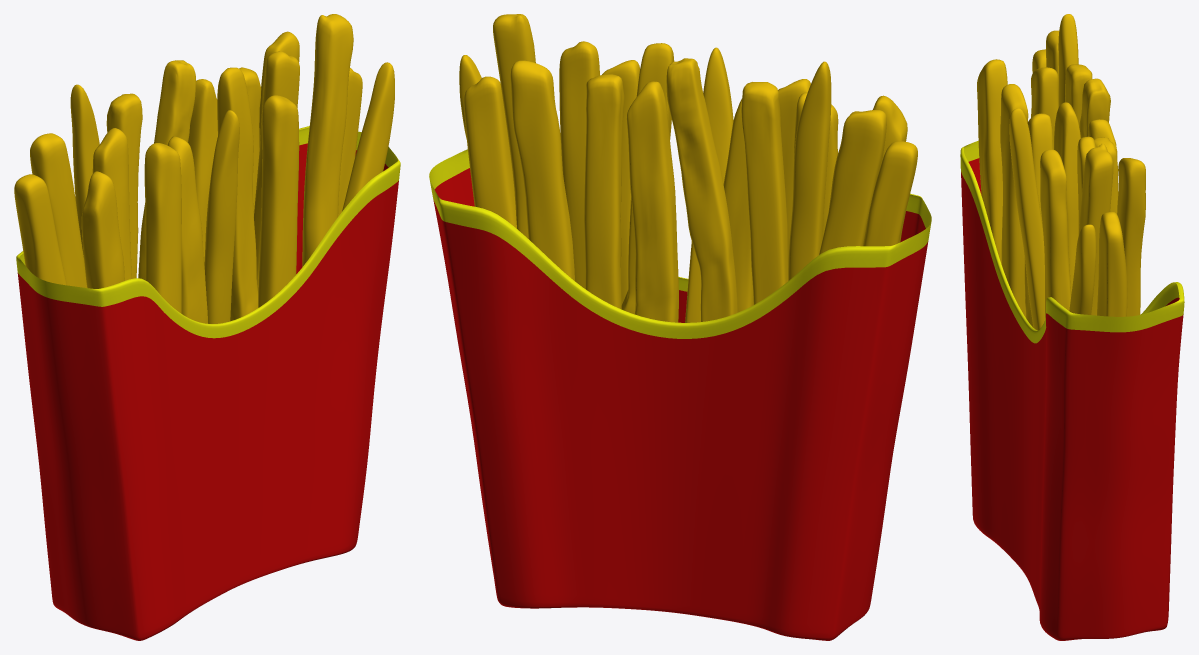
File: Packet.fbx
3 renders of one model, left to right at view 1: azimuth 30°, elevation 25°; view 2: azimuth 150°, elevation 25°; view 3: azimuth 270°, elevation 25°, orthographic. The views are drawn at different scales.
Visible parts, largest first — view 1: packet1, unit1 (×2), unit5 (×2), unit3 (×2), unit8, unit6 (×2), unit9, unit2 (×2), unit7, unit4 (×2), unit12, unit10 (+2 smaller); view 2: packet1, unit4 (×2), unit2 (×2), unit6 (×2), unit5 (×2), unit3 (×2), unit1 (×2), unit13, unit11, unit8, unit9, unit10 (+2 smaller); view 3: packet1, unit3 (×2), unit7, unit8, unit2 (×2), unit5 (×2), unit9, unit13, unit1, unit6 (×2), unit12, unit4 (×2) (+2 smaller).
Boxes of the visible parts, bbox=[...] form: packet1: bbox=[16, 126, 400, 640]; unit1 (×2): bbox=[14, 14, 353, 285]; unit5 (×2): bbox=[138, 60, 258, 321]; unit3 (×2): bbox=[70, 84, 239, 323]; unit8: bbox=[258, 95, 299, 307]; unit6 (×2): bbox=[167, 79, 217, 323]; unit9: bbox=[144, 143, 181, 313]; unit2 (×2): bbox=[30, 31, 299, 287]; unit7: bbox=[81, 171, 124, 288]; unit4 (×2): bbox=[106, 67, 261, 278]; unit12: bbox=[342, 62, 394, 211]; unit10: bbox=[92, 128, 131, 280]; packet1: bbox=[429, 149, 931, 640]; unit4 (×2): bbox=[584, 74, 788, 309]; unit2 (×2): bbox=[510, 60, 886, 280]; unit6 (×2): bbox=[626, 81, 753, 322]; unit5 (×2): bbox=[621, 43, 737, 321]; unit3 (×2): bbox=[685, 47, 831, 322]; unit1 (×2): bbox=[493, 14, 917, 246]; unit13: bbox=[464, 76, 516, 228]; unit11: bbox=[559, 41, 599, 288]; unit8: bbox=[602, 60, 639, 304]; unit9: bbox=[778, 79, 810, 268]; unit10: bbox=[794, 92, 838, 239]; packet1: bbox=[960, 140, 1184, 640]; unit3 (×2): bbox=[1009, 14, 1078, 330]; unit7: bbox=[977, 59, 1007, 264]; unit8: bbox=[1040, 149, 1071, 319]; unit2 (×2): bbox=[1046, 30, 1145, 316]; unit5 (×2): bbox=[1054, 78, 1110, 293]; unit9: bbox=[1000, 84, 1028, 317]; unit13: bbox=[1097, 212, 1127, 316]; unit1: bbox=[1078, 143, 1113, 315]; unit6 (×2): bbox=[1024, 113, 1117, 327]; unit12: bbox=[1069, 224, 1096, 314]; unit4 (×2): bbox=[1065, 64, 1118, 213].
Bounding box in the file's own units: 10.5 × 13.03 × 5.29.
